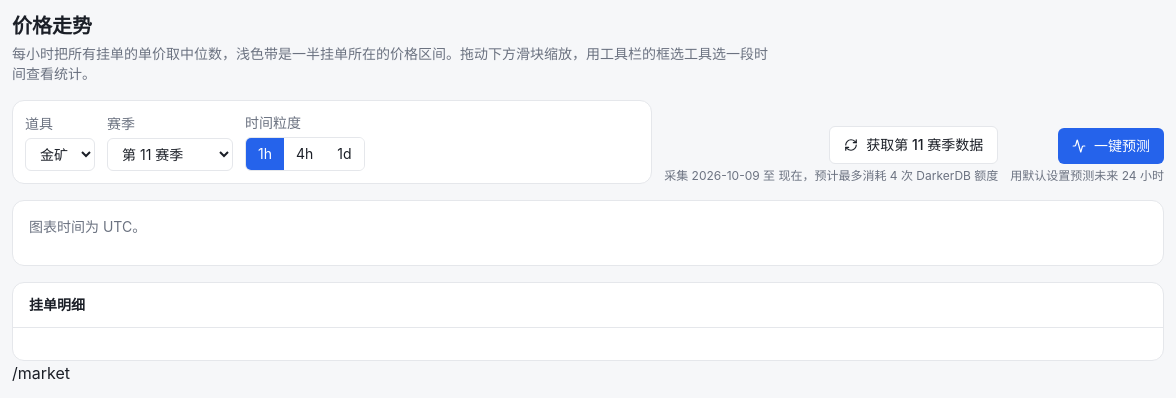
Scenario: when nothing new comes back, says how old DarkerDB's newest listing is
Click the button "获取第 11 赛季数据" at (914, 145), box [829,126,998,164]
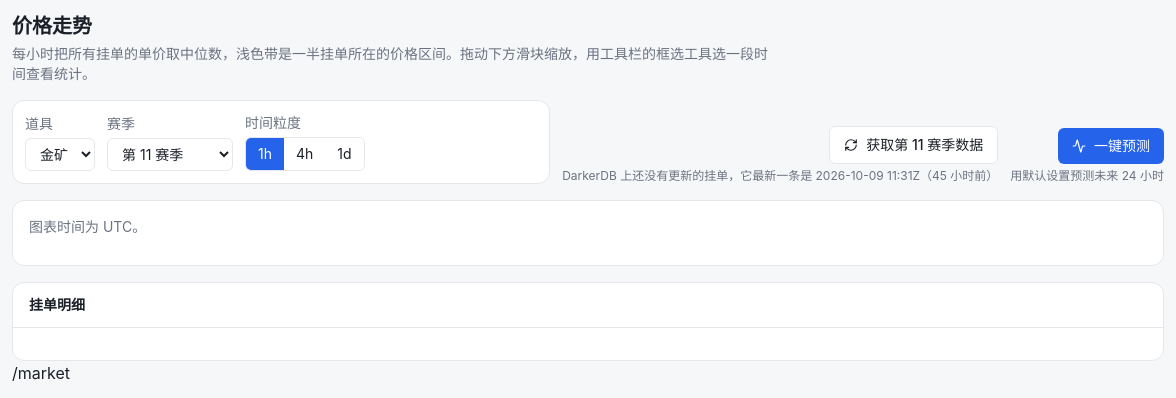
Expected: the text "DarkerDB 上还没有更新的挂单，它最新一条是 2026-10-09 11:31Z（45 小时前）" is shown, [562,168,998,184]
